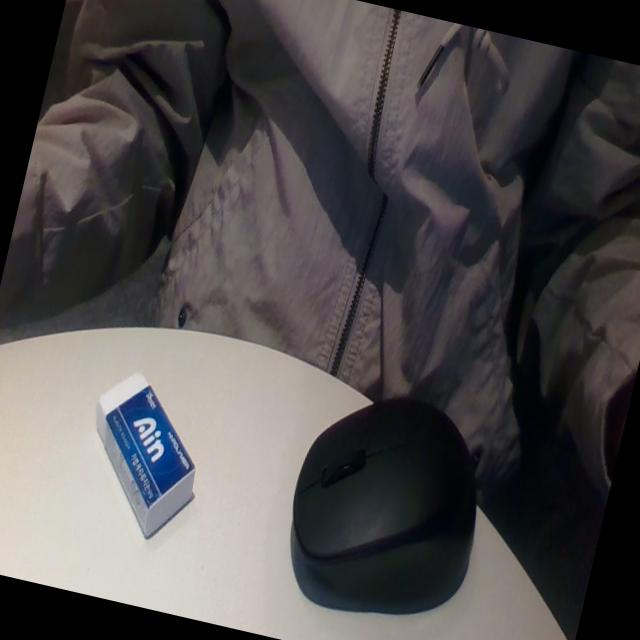eraser: (65, 354, 224, 554)
mouse: (264, 364, 515, 632)
